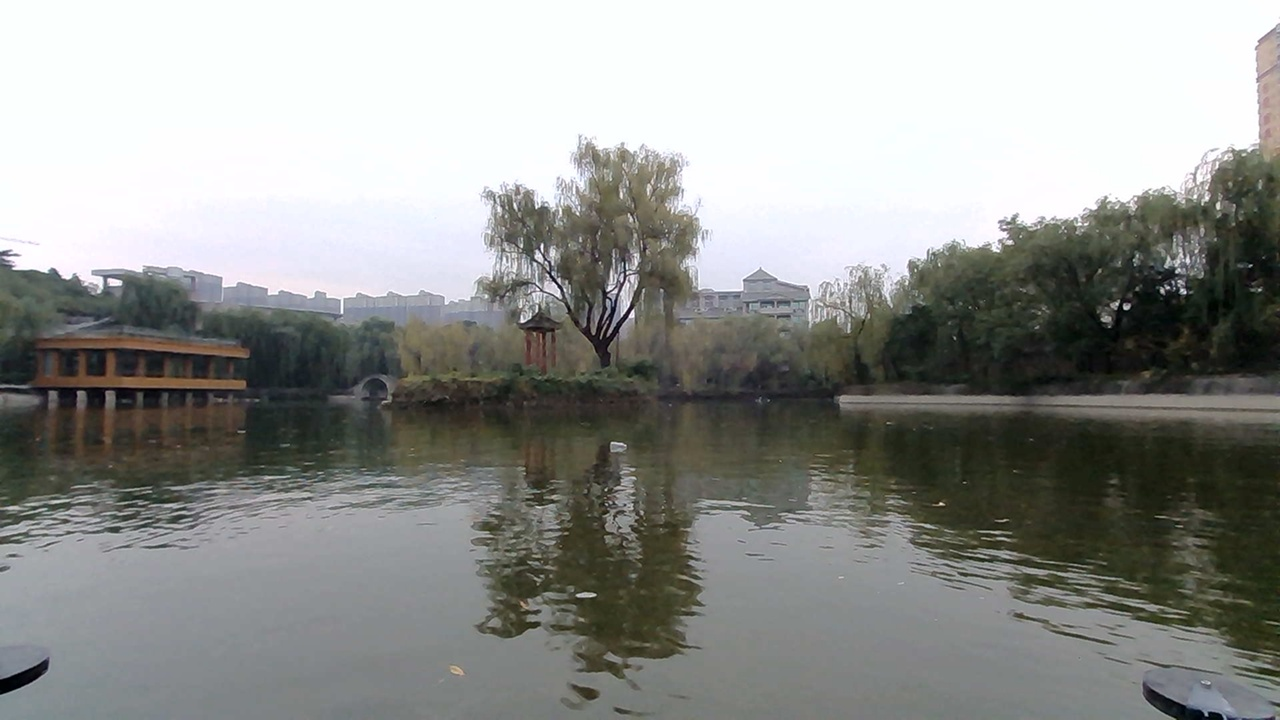bottle: (603, 425, 667, 458)
